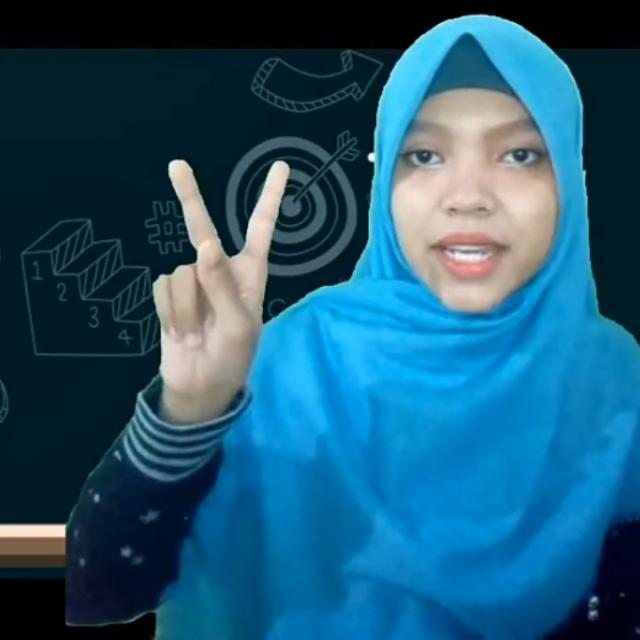K: (152, 154, 290, 398)
